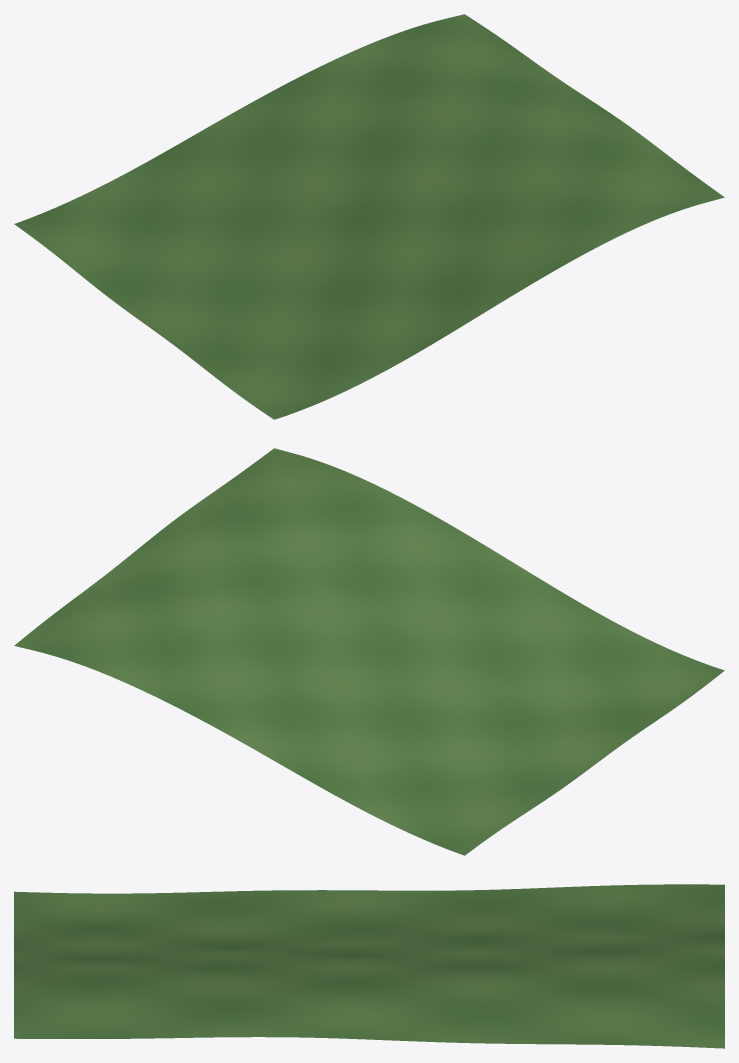
The model's file is chunk_12_8.glb.
The picture shows the model from 3 angles, top to bottom: view 1: azimuth 30°, elevation 25°; view 2: azimuth 150°, elevation 25°; view 3: azimuth 270°, elevation 25°; orthographic projection. The views are drawn at different scales.
Size of the model in its own units: 512 by 125 by 512.
